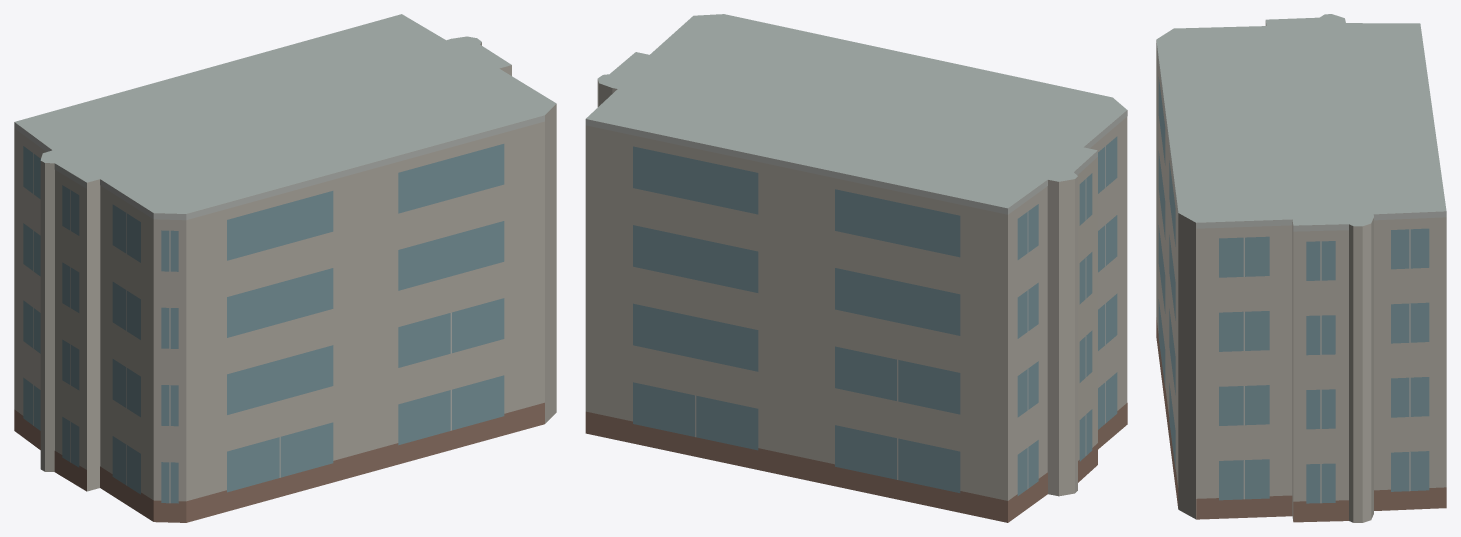
The model's file is survey-upis-32744397.glb.
The picture shows the model from 3 angles, left to right: view 1: azimuth 30°, elevation 25°; view 2: azimuth 150°, elevation 25°; view 3: azimuth 270°, elevation 25°; orthographic projection. The views are drawn at different scales.
Visible parts, largest first — view 1: survey-upis-32744397.tmp; view 2: survey-upis-32744397.tmp; view 3: survey-upis-32744397.tmp.
Part boxes in pixels (box(x1,y1,x2,y2)): survey-upis-32744397.tmp: box(14, 14, 556, 522); survey-upis-32744397.tmp: box(585, 14, 1127, 522); survey-upis-32744397.tmp: box(1156, 14, 1446, 522).
Bounding box in the file's own units: 18.56 × 12.1 × 10.74.
